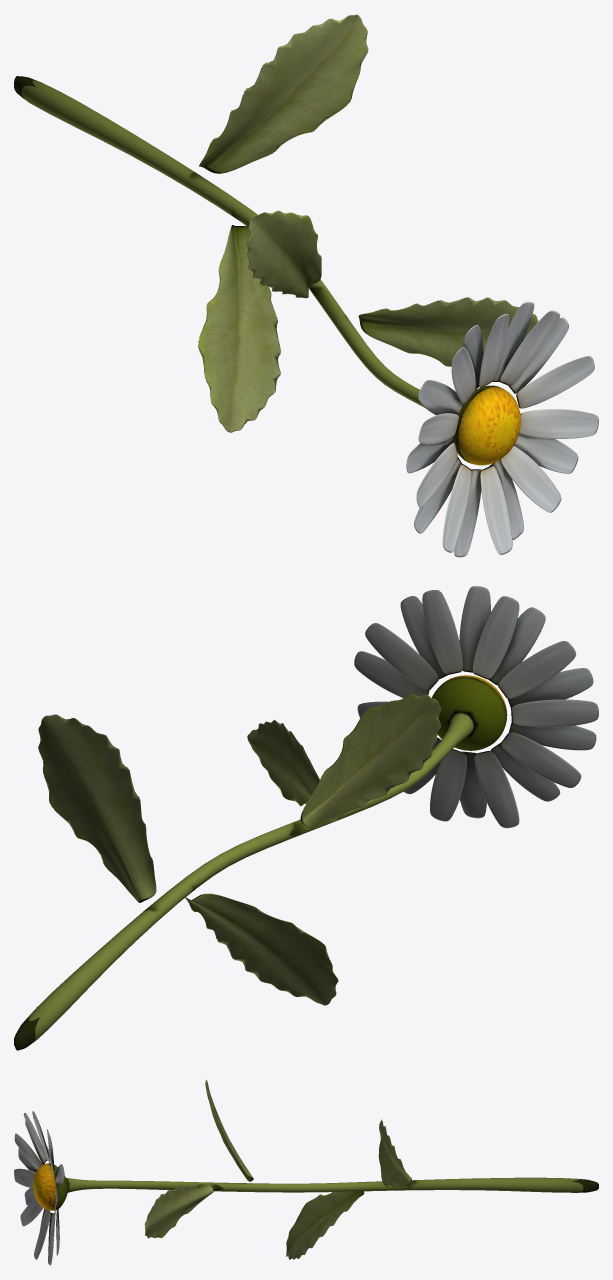
Rendered from daisy.obj.
The picture shows the model from 3 angles, top to bottom: view 1: azimuth 30°, elevation 25°; view 2: azimuth 150°, elevation 25°; view 3: azimuth 270°, elevation 25°; orthographic projection. The views are drawn at different scales.
Visible parts, largest first — view 1: 10441_Daisy_v1_SG; view 2: 10441_Daisy_v1_SG; view 3: 10441_Daisy_v1_SG.
Boxes of the visible parts, <box> form: 10441_Daisy_v1_SG: <box>14,14,598,557</box>; 10441_Daisy_v1_SG: <box>14,586,598,1050</box>; 10441_Daisy_v1_SG: <box>14,1079,598,1265</box>.
Size of the model in its own units: 4.68 by 5.15 by 14.98.
